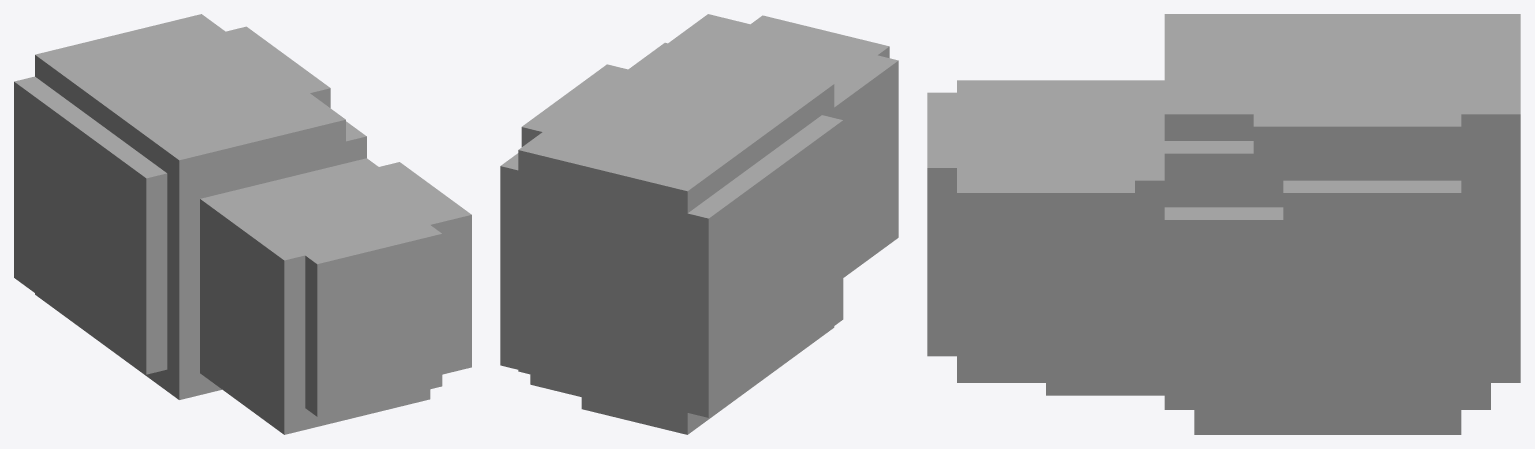
File: gorilla-6-R_Arm.obj
The picture shows the model from 3 angles, left to right: view 1: azimuth 30°, elevation 25°; view 2: azimuth 150°, elevation 25°; view 3: azimuth 270°, elevation 25°; orthographic projection. The views are drawn at different scales.
Visible parts, largest first — view 1: R_Arm; view 2: R_Arm; view 3: R_Arm.
Part boxes in pixels (x1,y1,x2,y2): R_Arm: (14,14,471,434); R_Arm: (500,14,898,434); R_Arm: (927,14,1520,434).
Bounding box in the file's own units: 1.1 × 1.1 × 2.
Materials: 1 (1 with a texture image).
